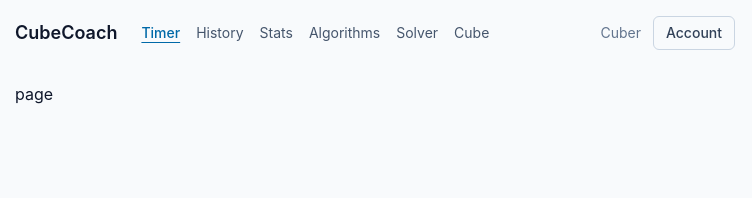
Test: account menu › closes on Escape
Click the button "Account" at point(694, 33), box [653,16,735,50]
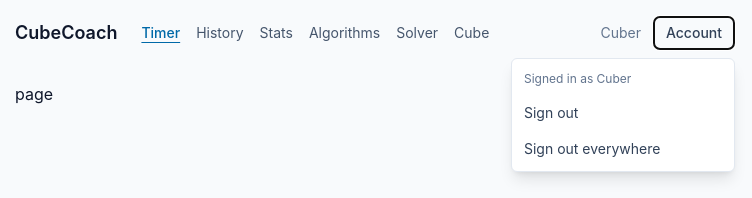
Press Escape
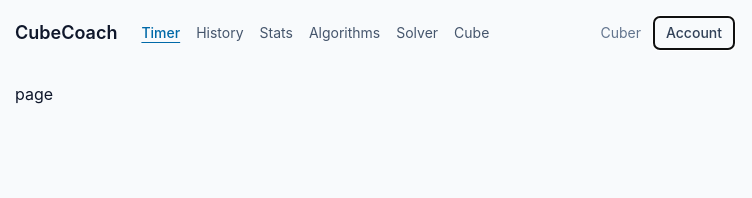
Check: the button "Sign out" is gone
